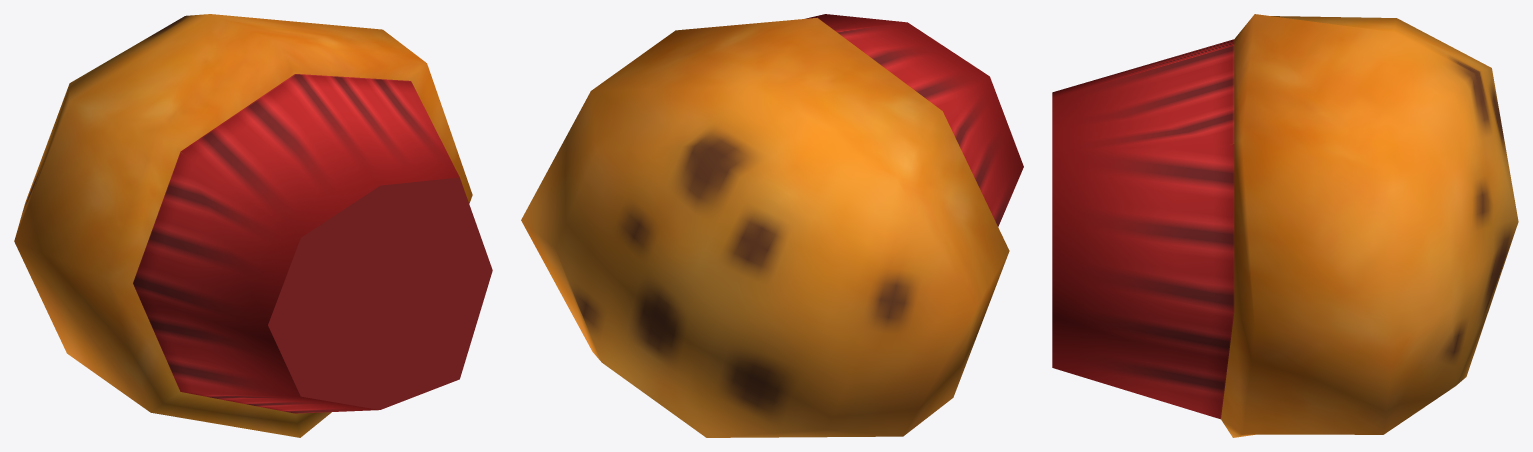
Rendered from Muffin.fbx.
3 views of the same model, side by side, from view 1: azimuth 30°, elevation 25°; view 2: azimuth 150°, elevation 25°; view 3: azimuth 270°, elevation 25° (orthographic). The views are drawn at different scales.
Parts seen in each view (by area): view 1: Muffin; view 2: Muffin; view 3: Muffin.
Part boxes in pixels (x1,y1,x2,y2): Muffin: (14, 14, 492, 437); Muffin: (521, 14, 1023, 437); Muffin: (1052, 14, 1518, 437).
Bounding box in the file's own units: 12.13 × 10.65 × 10.53.
